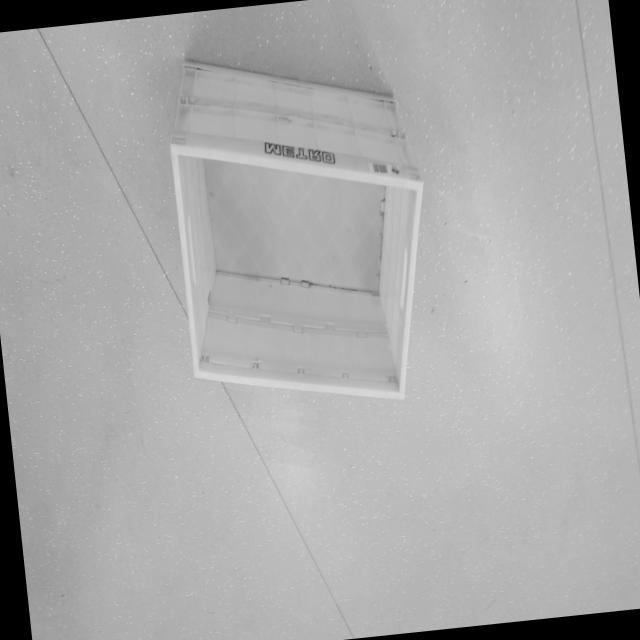box: (140, 31, 447, 428)
